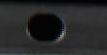holes: (25, 12, 66, 44)
